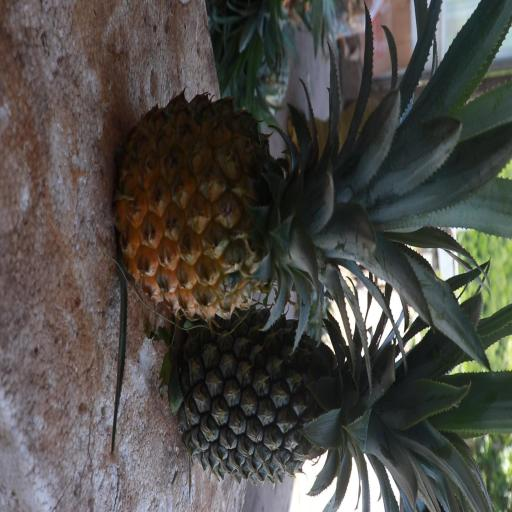Pineapple - v8 v1: (116, 98, 433, 310)
